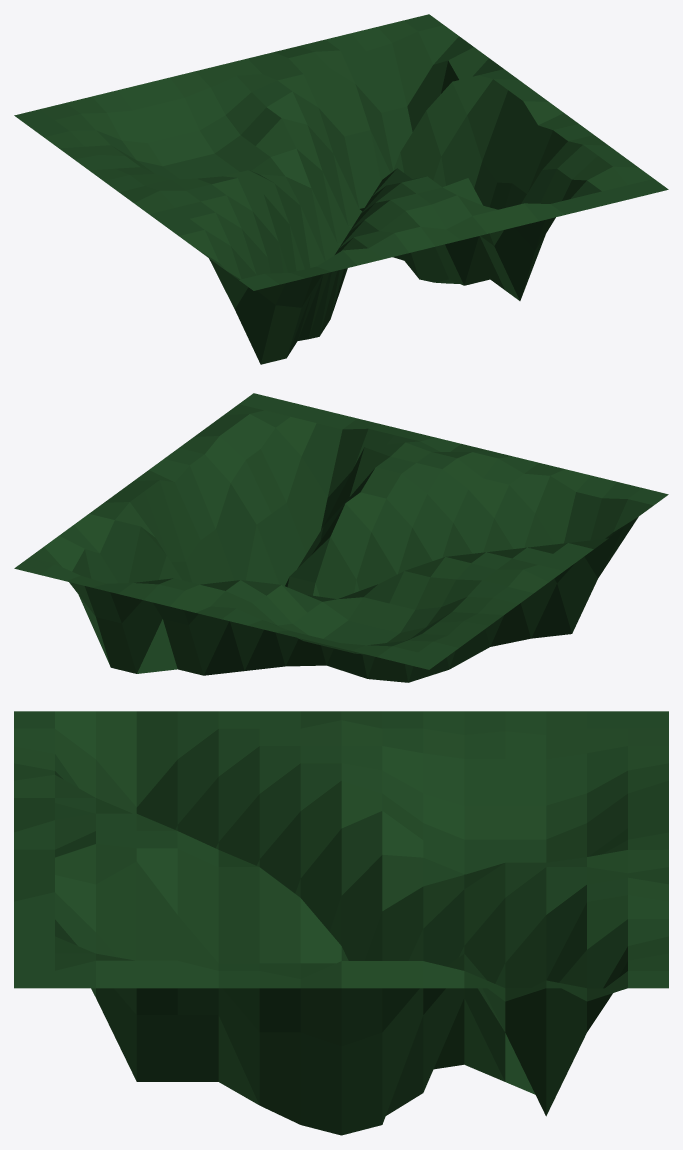
File: Terrain_25_Dark_Green.fbx
3 views of the same model, one above another, from view 1: azimuth 30°, elevation 25°; view 2: azimuth 150°, elevation 25°; view 3: azimuth 270°, elevation 25° (orthographic). The views are drawn at different scales.
Parts seen in each view (by area): view 1: Terrain_25_Dark_Green; view 2: Terrain_25_Dark_Green; view 3: Terrain_25_Dark_Green.
Part boxes in pixels (x1,y1,x2,y2): Terrain_25_Dark_Green: (14,14,668,364); Terrain_25_Dark_Green: (14,393,668,682); Terrain_25_Dark_Green: (14,711,668,1135).
Bounding box in the file's own units: 5000 × 1992 × 5000.
